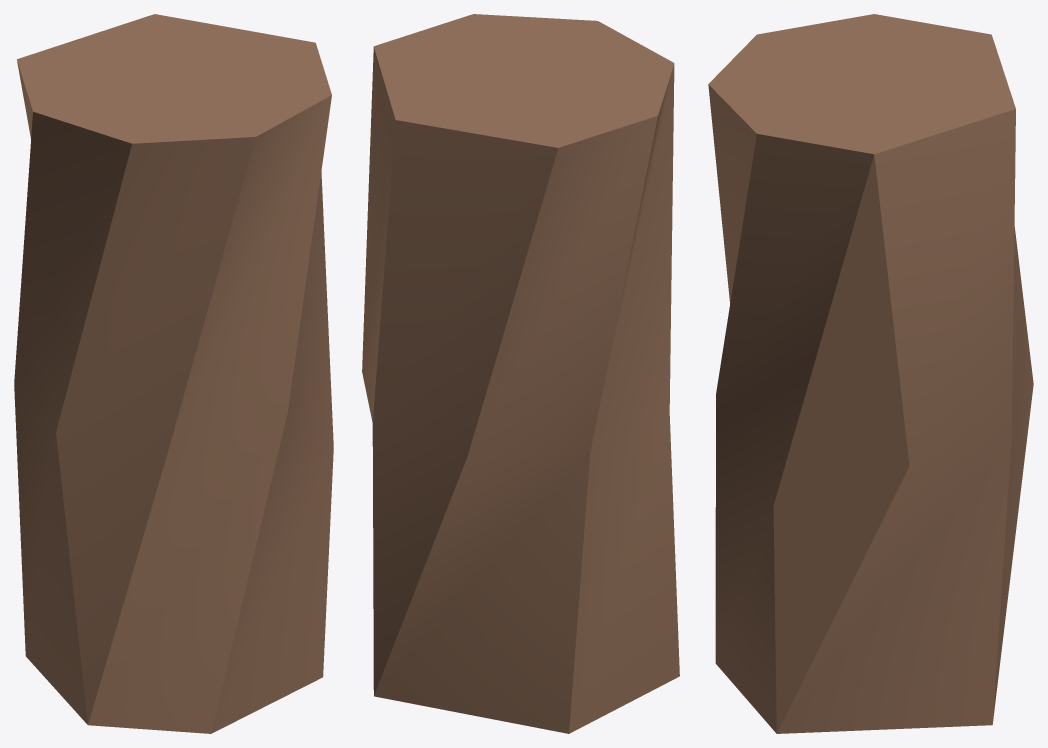
Rendered from Spin Stump.fbx.
3 renders of one model, left to right at view 1: azimuth 30°, elevation 25°; view 2: azimuth 150°, elevation 25°; view 3: azimuth 270°, elevation 25°, orthographic.
Visible parts, largest first — view 1: Spin_Stump; view 2: Spin_Stump; view 3: Spin_Stump.
Part boxes in pixels (x1,y1,x2,y2): Spin_Stump: (14, 14, 333, 733); Spin_Stump: (362, 14, 679, 733); Spin_Stump: (708, 14, 1033, 733).
Size of the model in its own units: 197 by 393 by 193.
